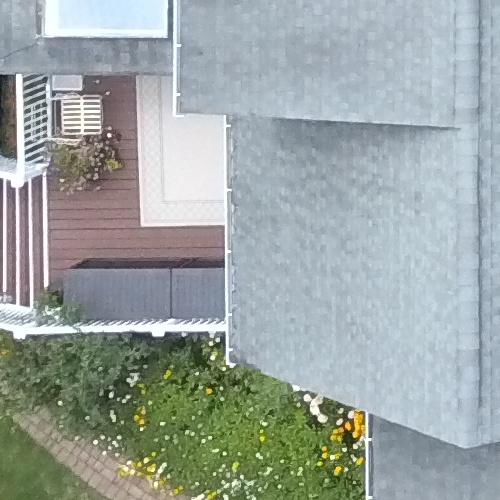porch: (1, 41, 228, 365)
